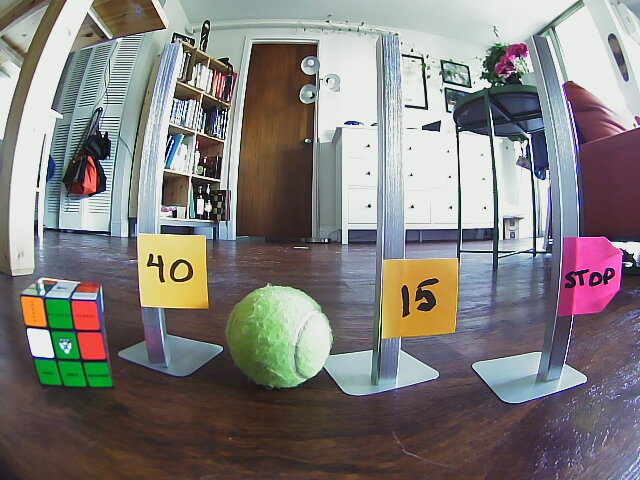15: (383, 263, 456, 333)
40: (137, 235, 206, 307)
ball: (229, 287, 335, 388)
cube: (19, 274, 115, 390)
stop: (564, 243, 620, 305)
